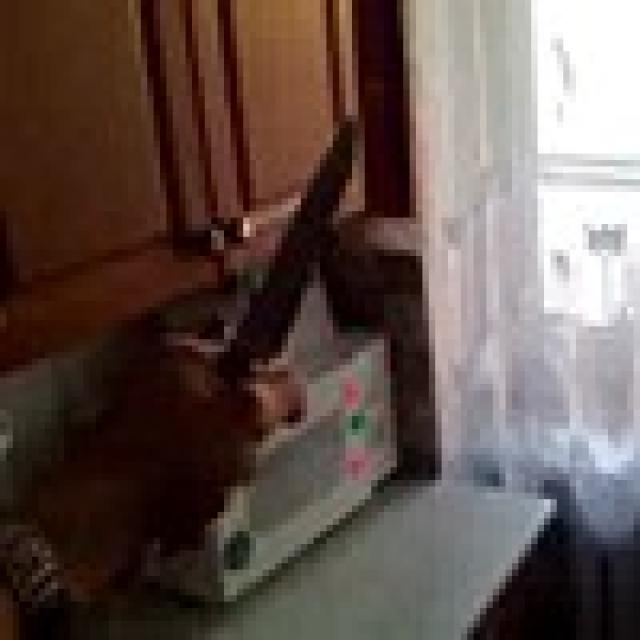Knife: (230, 115, 378, 410)
